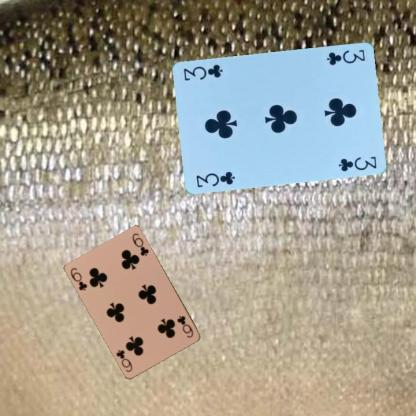3c: (324, 46, 366, 66), (194, 168, 236, 188)
6c: (68, 265, 89, 292), (174, 313, 194, 339)
